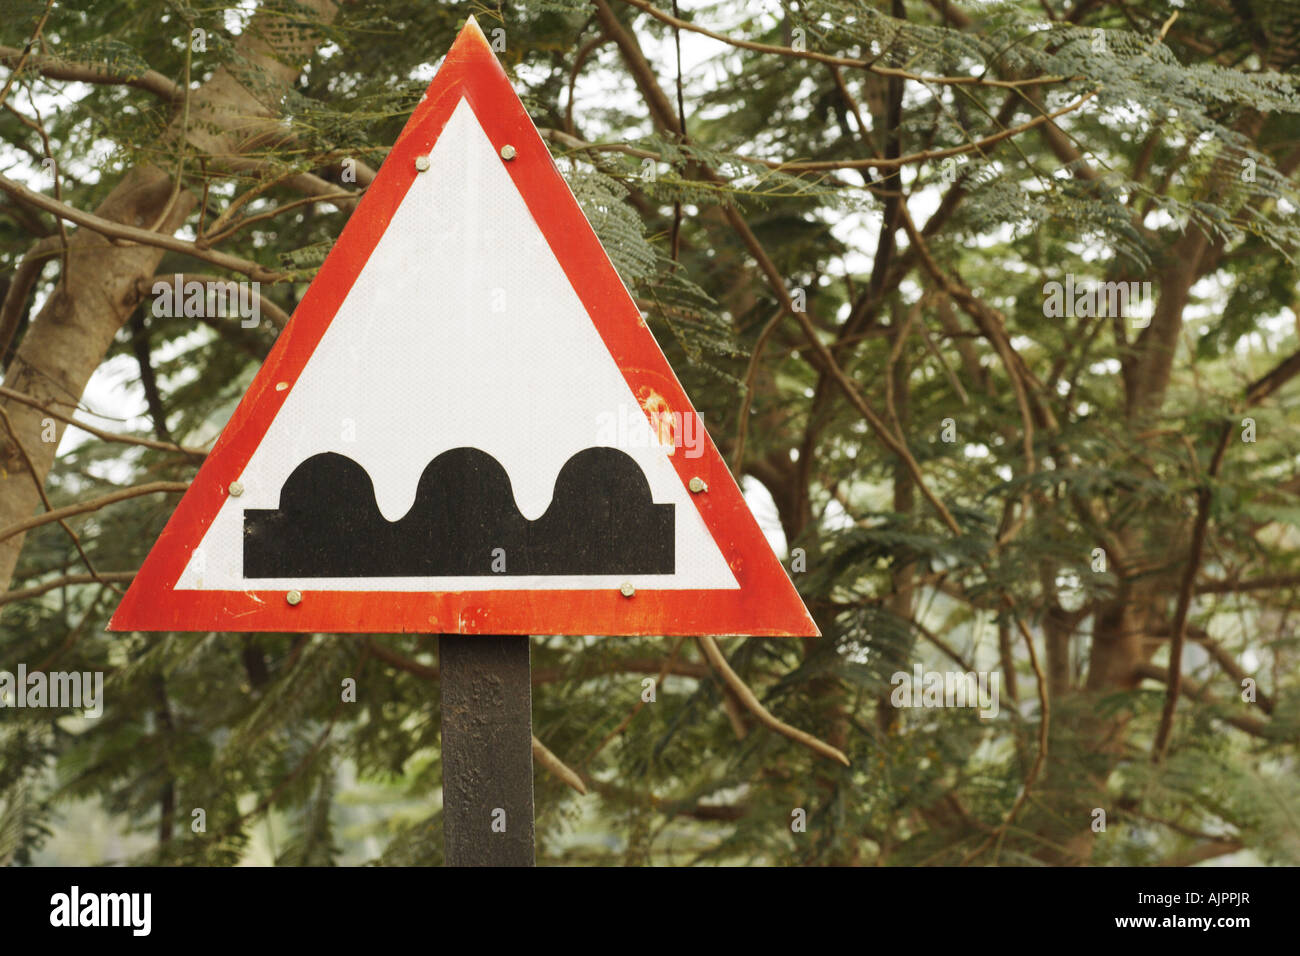speed-breaker: (156, 87, 784, 617)
